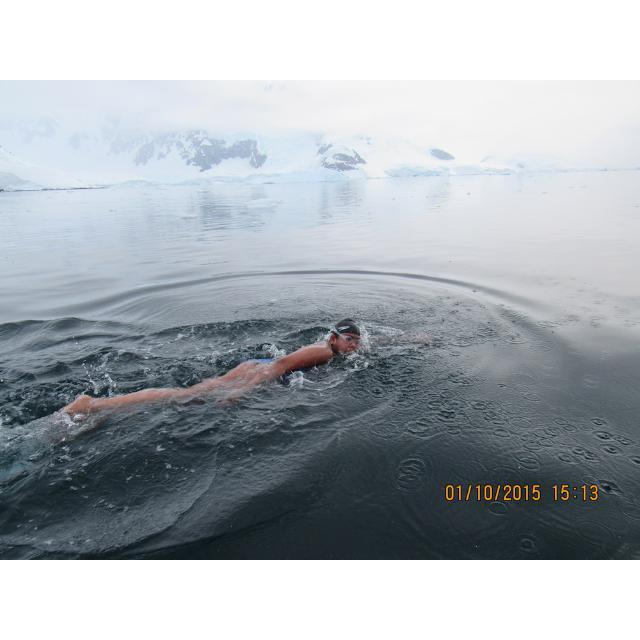human: (66, 314, 365, 429)
